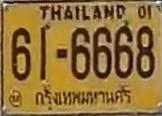1: (40, 25, 47, 74)
6: (11, 27, 30, 80), (70, 27, 89, 79), (92, 26, 111, 78), (114, 24, 132, 77)
8: (136, 25, 154, 77)
BKK: (32, 84, 134, 107)
